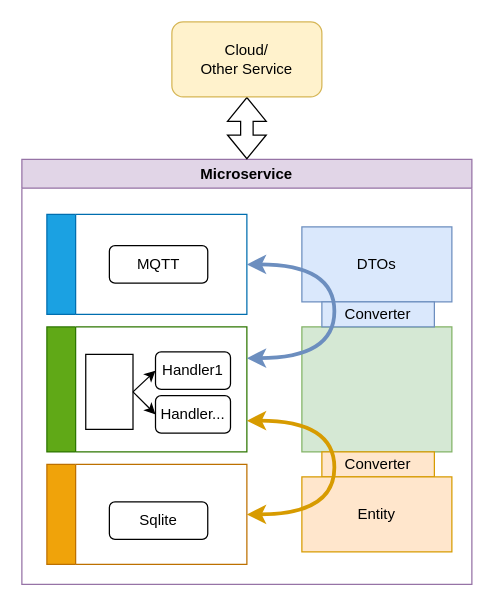
Image size: 494x606. Some labels were removed from this diagram. Each missing label, with the box of its shape:
Application: (46, 326, 247, 452)
Controller: (84, 353, 133, 429)
Database: (46, 463, 247, 564)
Models: (301, 326, 452, 452)
Transport: (46, 213, 247, 314)
